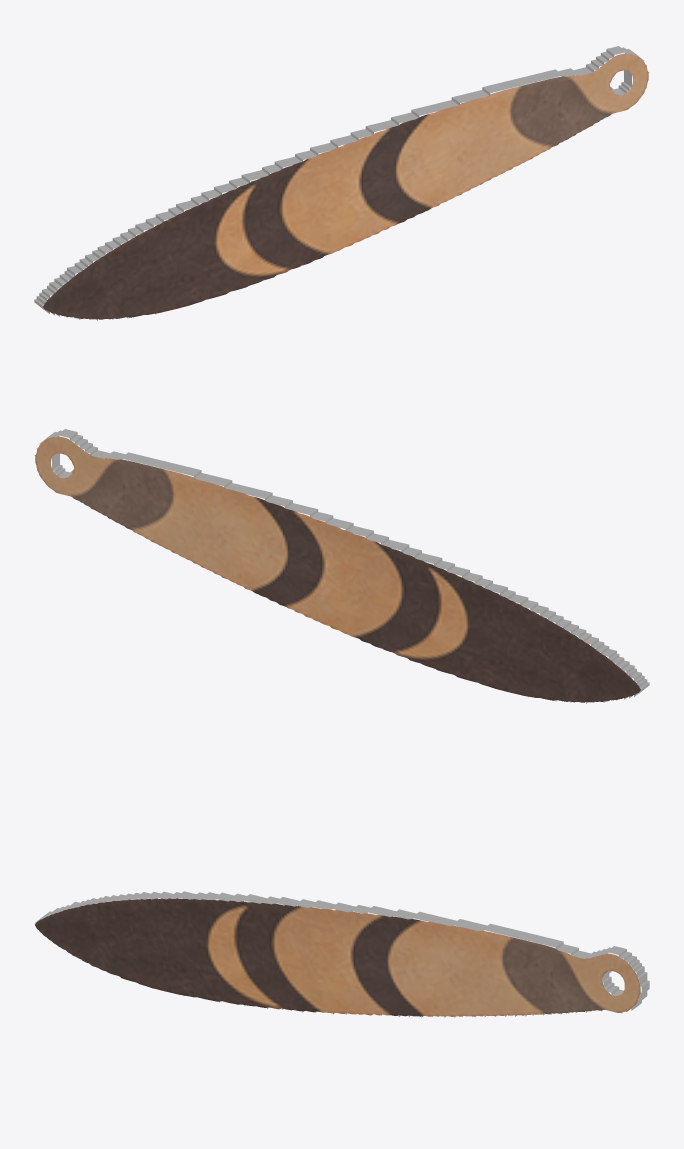
Rendered from FlightLeft02.glb.
3 views of the same model, one above another, from view 1: azimuth 30°, elevation 25°; view 2: azimuth 150°, elevation 25°; view 3: azimuth 330°, elevation 25° (orthographic).
Parts seen in each view (by area): view 1: PaperVolume; view 2: PaperVolume; view 3: PaperVolume.
Boxes of the visible parts, x1=… form: PaperVolume: x1=34, y1=46, x2=649, y2=320; PaperVolume: x1=34, y1=429, x2=649, y2=703; PaperVolume: x1=34, y1=891, x2=649, y2=1017.
Bounding box in the file's own units: 3.67 × 1.03 × 0.08.
3 materials, 2 textured.
